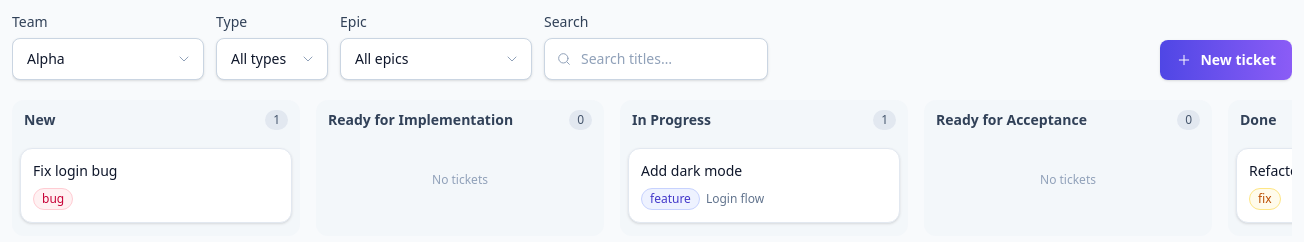
Test: filtering by type narrows the visible cards
The width and height of the screenshot is (1304, 242).
Expected: the text "Fix login bug" is shown, [33,161,117,180]
Select "bug" in the dropdown labelled "Type" at coordinates (272, 59), box [216,38,328,80]
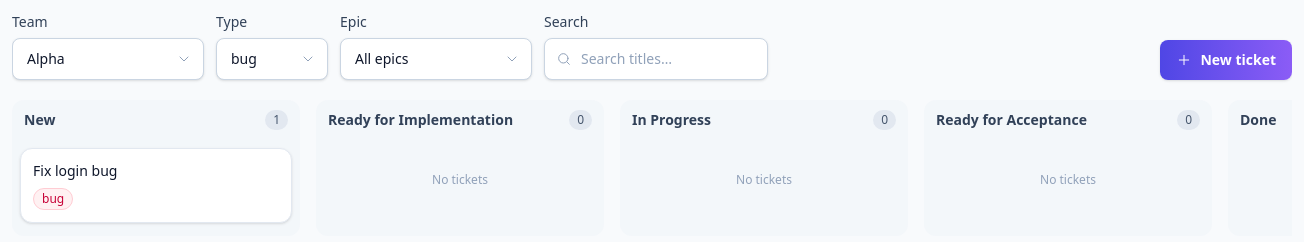
Expected: the text "Fix login bug" is shown, [33,161,117,180]
Expected: the button "Add dark mode" is gone
Expected: the button "Refactor API" is gone
